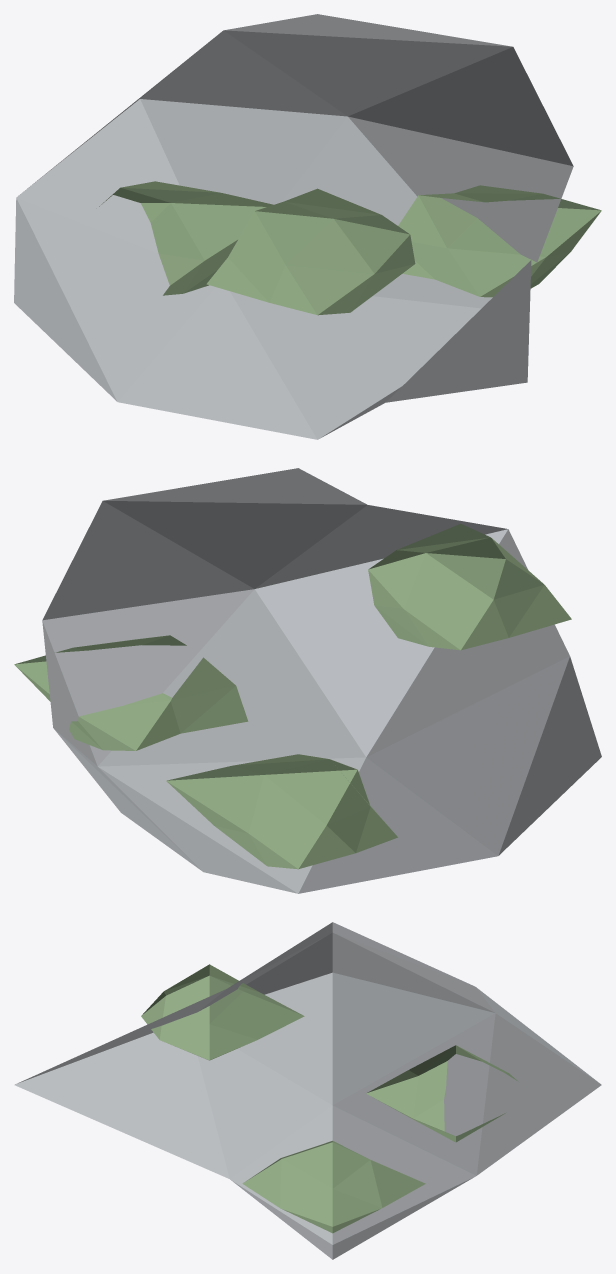
Rendered from moss_rock_v49.glb.
3 views of the same model, one above another, from view 1: azimuth 30°, elevation 25°; view 2: azimuth 150°, elevation 25°; view 3: azimuth 270°, elevation 25° (orthographic). The views are drawn at different scales.
Visible parts, largest first — view 1: lod0; view 2: lod0; view 3: lod0.
Part boxes in pixels (left/top/right/bottom): lod0: left=14, top=14, right=601, bottom=439; lod0: left=14, top=468, right=601, bottom=893; lod0: left=14, top=922, right=601, bottom=1259.
Size of what is drawn, in the model's own units: 1.36 by 0.9396 by 1.55.
